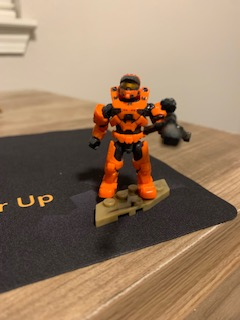spartan: (87, 71, 166, 205)
